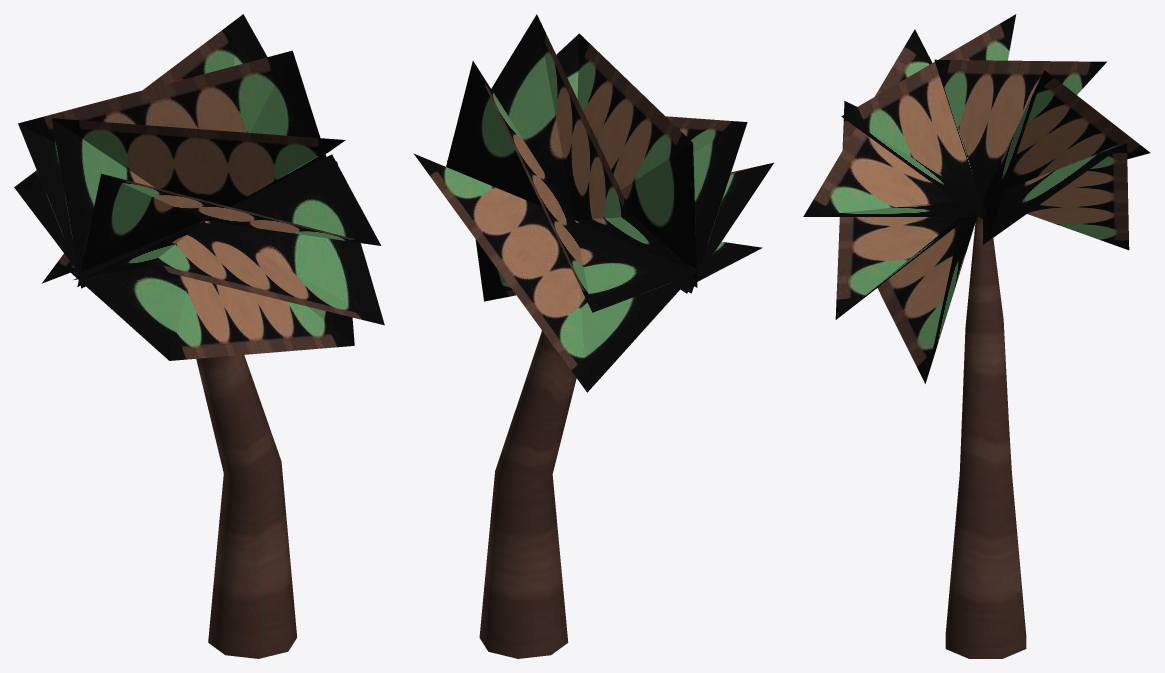
Rendered from Canyon_Tree_2.glb.
3 views of the same model, side by side, from view 1: azimuth 30°, elevation 25°; view 2: azimuth 150°, elevation 25°; view 3: azimuth 270°, elevation 25° (orthographic). The views are drawn at different scales.
Visible parts, largest first — view 1: Canyon_Tree_2_1, Canyon_Tree_2_0; view 2: Canyon_Tree_2_1, Canyon_Tree_2_0; view 3: Canyon_Tree_2_1, Canyon_Tree_2_0.
Part boxes in pixels (x1,y1,x2,y2): Canyon_Tree_2_1: (14,14,384,360); Canyon_Tree_2_0: (196,221,296,658); Canyon_Tree_2_1: (413,14,773,392); Canyon_Tree_2_0: (479,220,578,658); Canyon_Tree_2_1: (803,14,1150,383); Canyon_Tree_2_0: (945,216,1026,658).
Size of the model in its own units: 1.58 by 3.42 by 1.83.
Materials: 2 (2 with a texture image).
